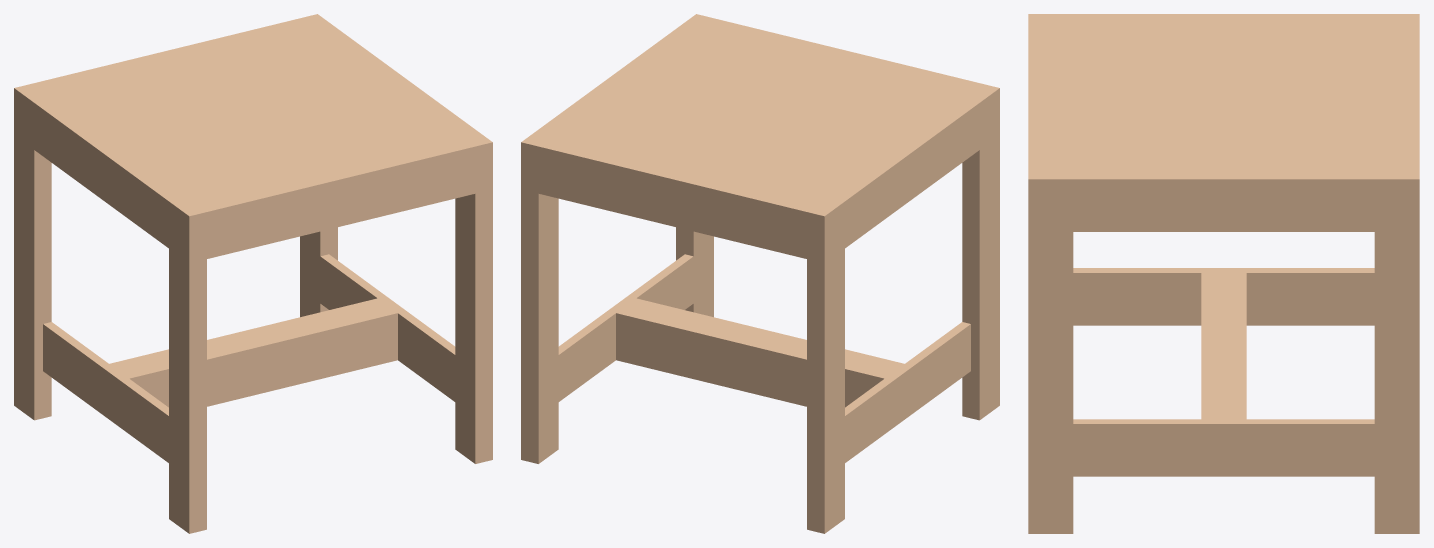
Rendered from kn-table.glb.
3 views of the same model, side by side, from view 1: azimuth 30°, elevation 25°; view 2: azimuth 150°, elevation 25°; view 3: azimuth 270°, elevation 25° (orthographic). The views are drawn at different scales.
Parts seen in each view (by area): view 1: table(Clone); view 2: table(Clone); view 3: table(Clone).
Boxes of the visible parts, left/top/right/bottom form: table(Clone): left=14, top=14, right=492, bottom=533; table(Clone): left=521, top=14, right=999, bottom=533; table(Clone): left=1028, top=14, right=1419, bottom=533.
Size of the model in its own units: 1 by 1 by 1.
